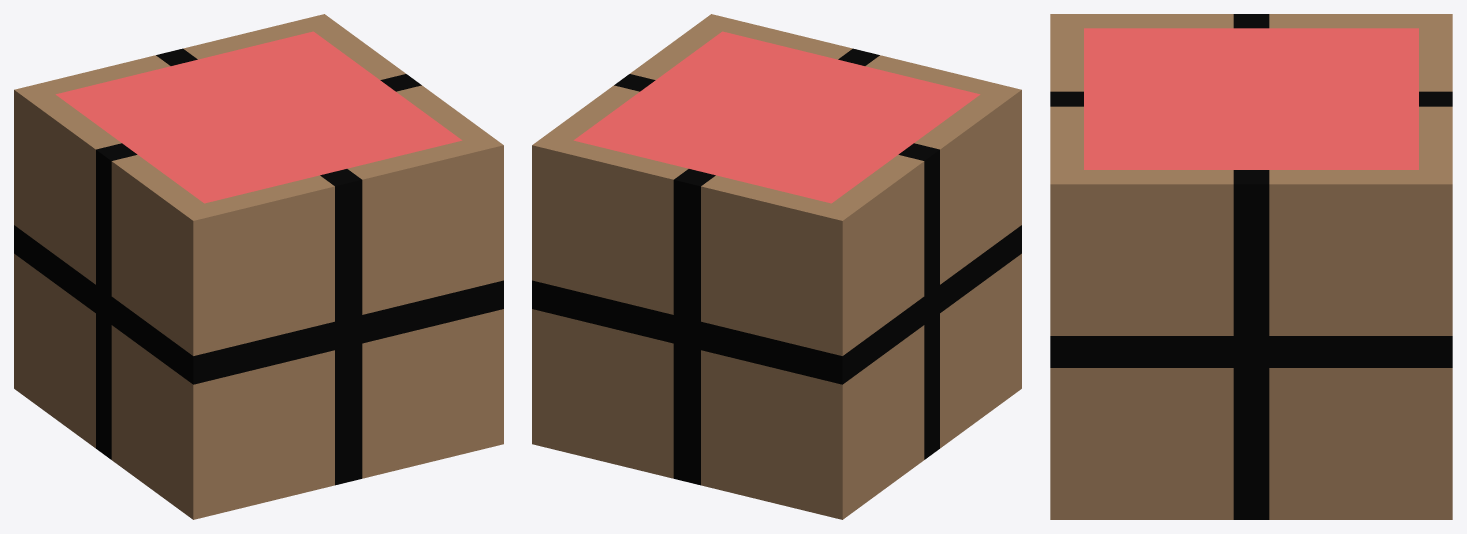
3 renders of one model, left to right at view 1: azimuth 30°, elevation 25°; view 2: azimuth 150°, elevation 25°; view 3: azimuth 270°, elevation 25°, orthographic. The views are drawn at different scales.
Parts seen in each view (by area): view 1: Box.001; view 2: Box.001; view 3: Box.001.
Part boxes in pixels (bbox=[...]): Box.001: bbox=[14, 14, 503, 519]; Box.001: bbox=[532, 14, 1021, 519]; Box.001: bbox=[1050, 14, 1452, 519].
Size of the model in its own units: 52.72 by 48.51 by 52.72.
